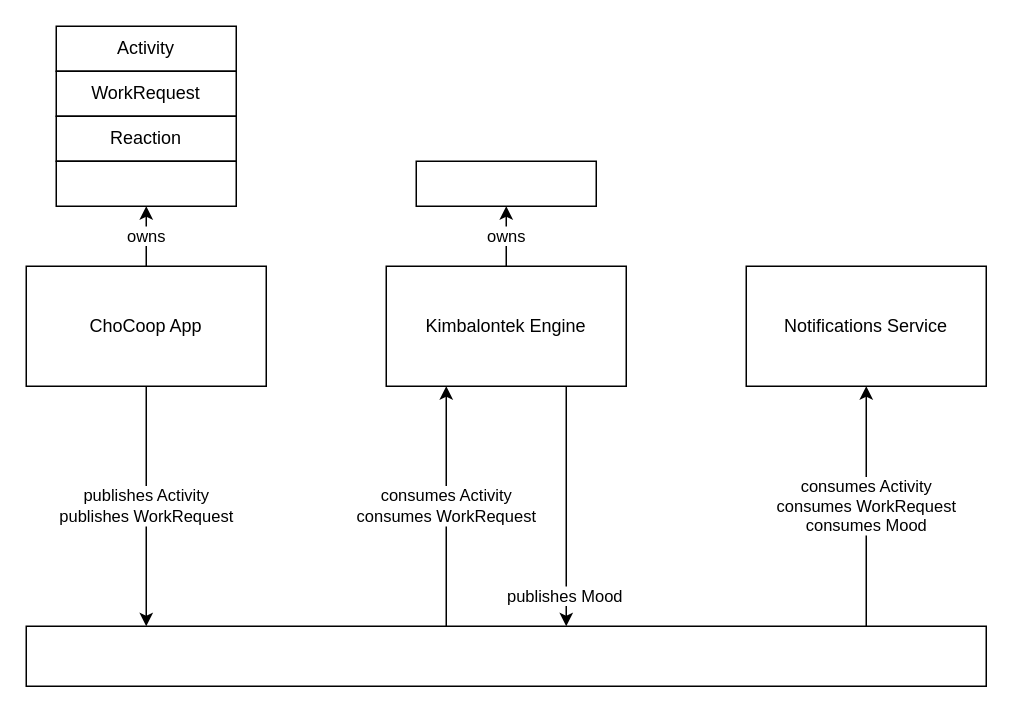
Some shapes in this 1013 by 713 pixel diagram are drawn without their labels. Each missing label, with the box of its shape:
Event Bus: (25, 625, 986, 686)
ExperienceStatistics: (55, 160, 236, 206)
Mood: (415, 160, 596, 206)
